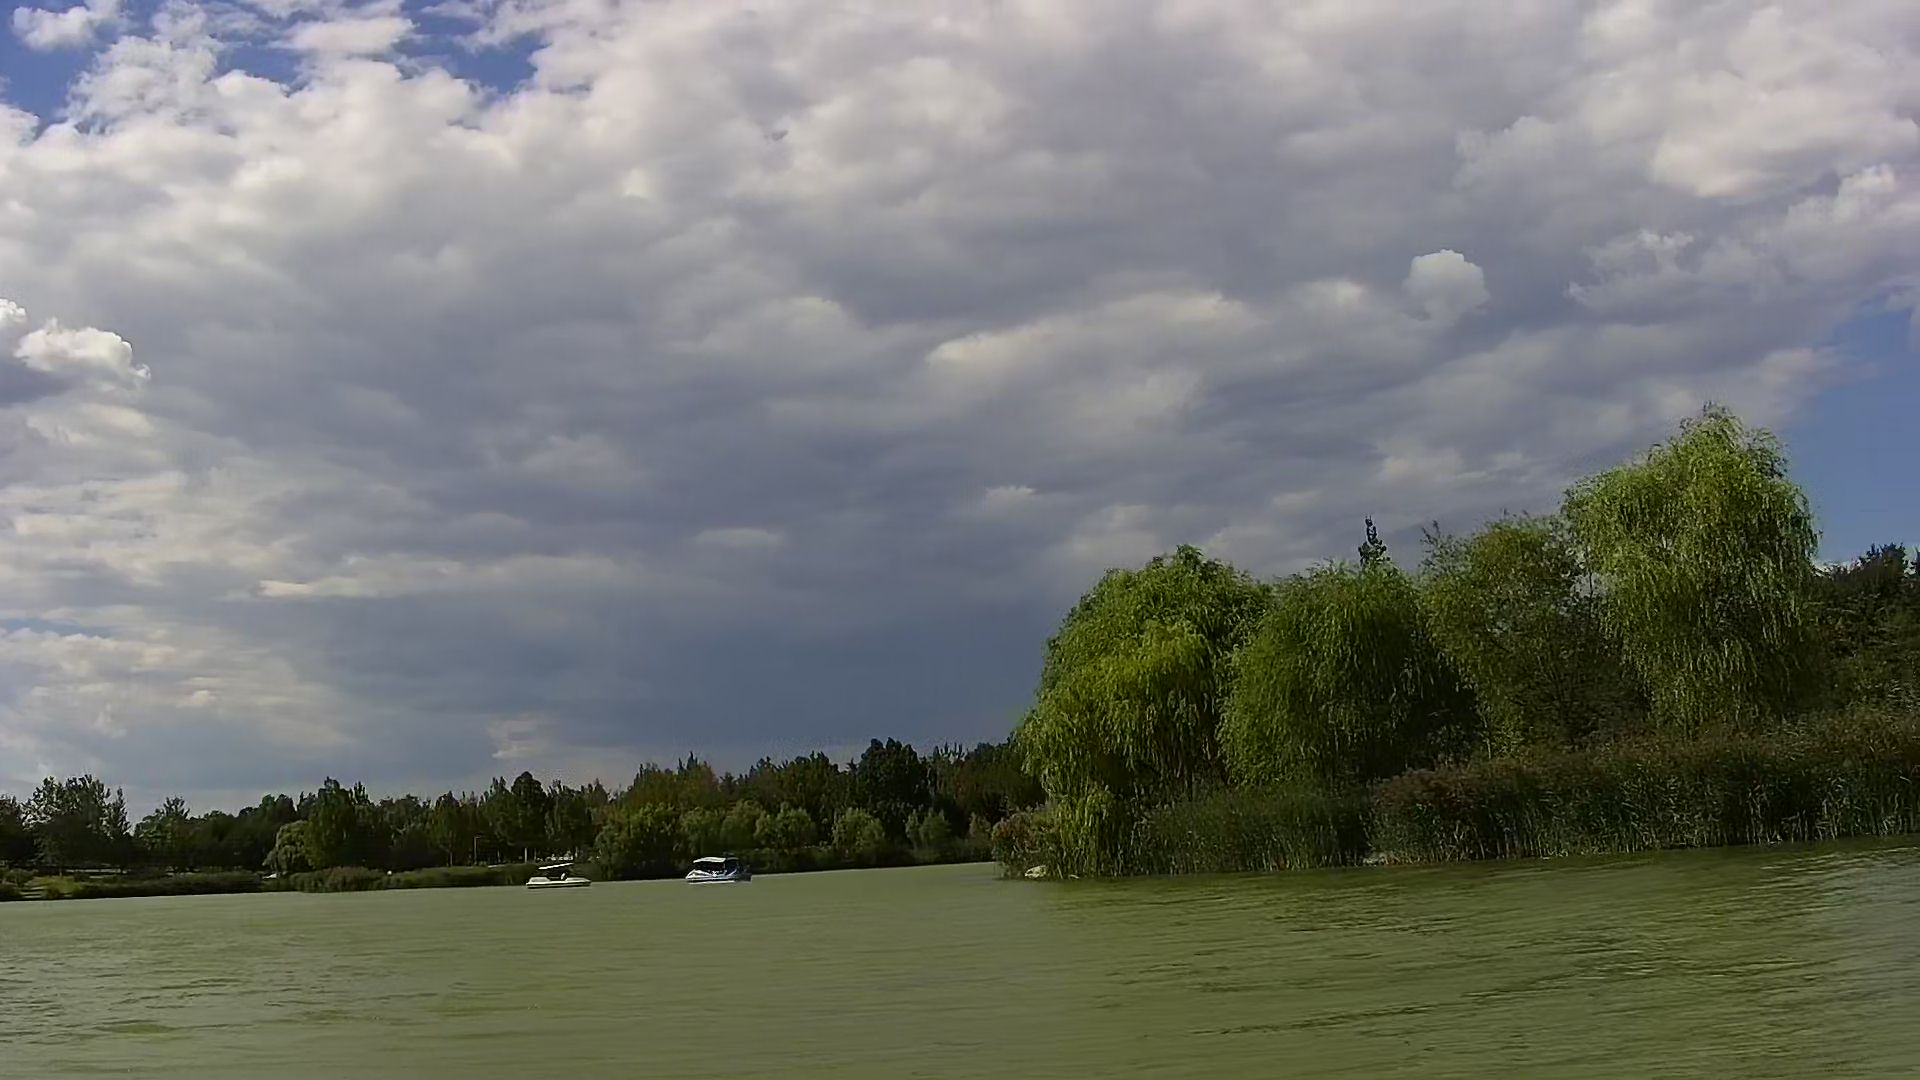boat: (526, 858, 592, 891), (686, 855, 748, 887)
rock: (1026, 865, 1054, 884)
